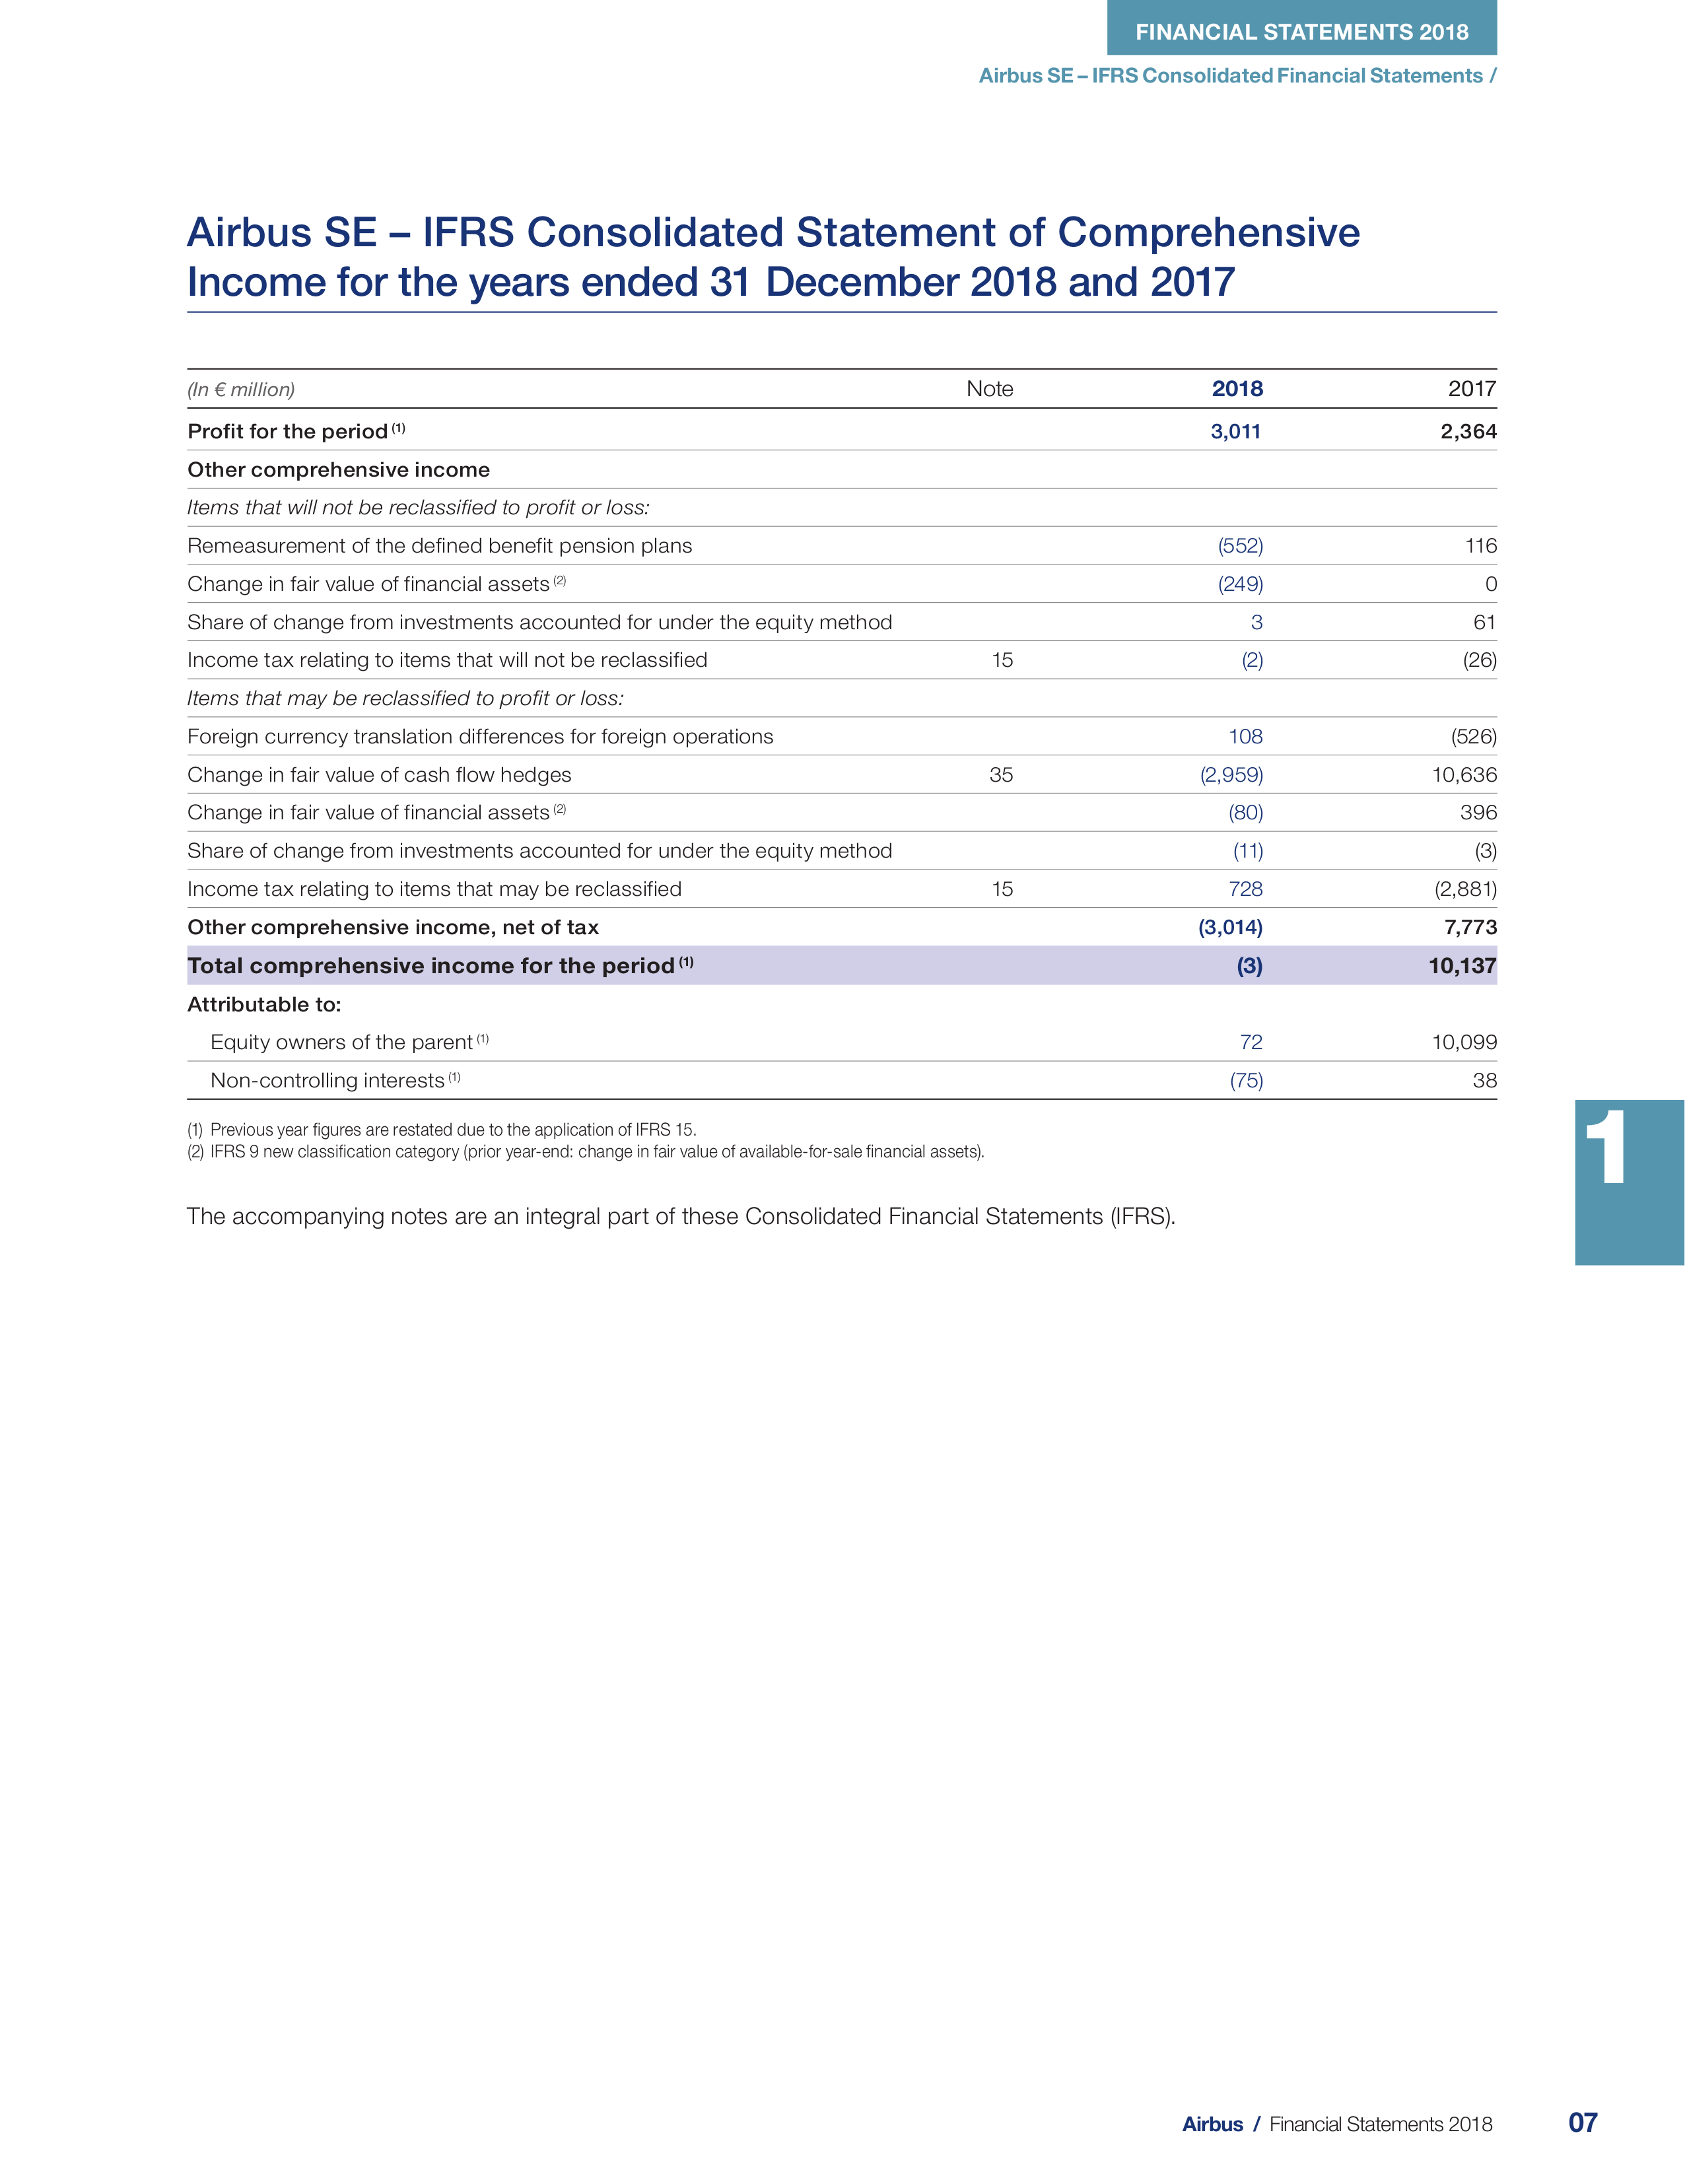comprehensive_income: (161, 356, 1512, 1113)
